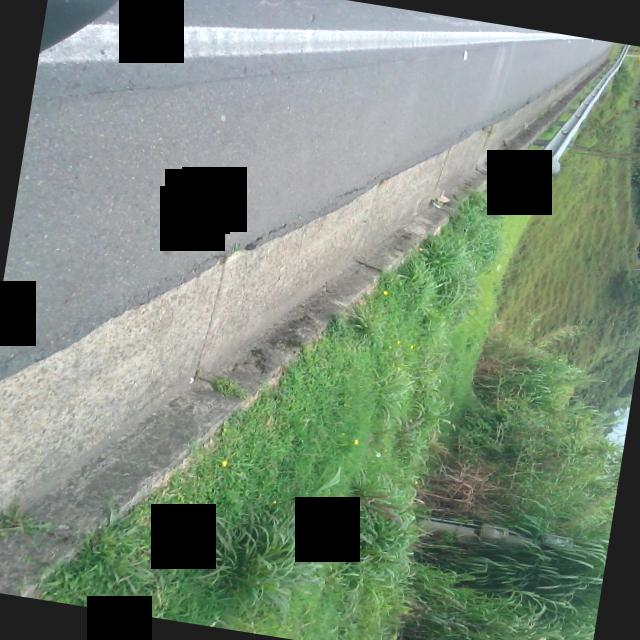DITCH: (0, 0, 619, 640), (0, 0, 584, 640)
